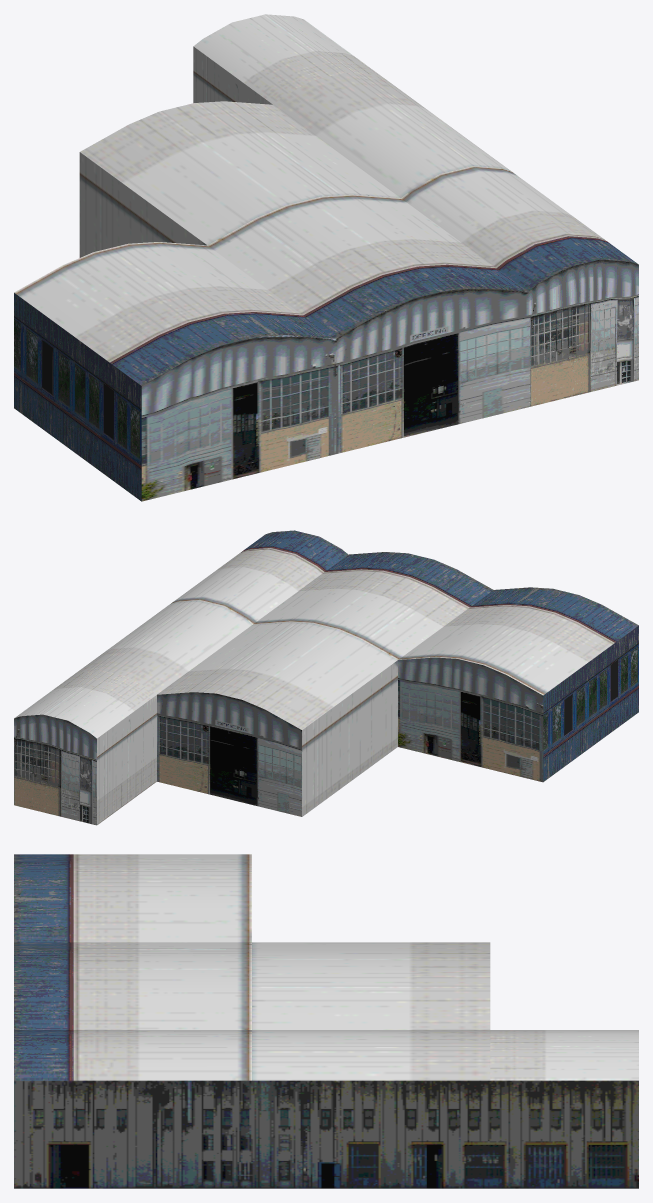
Rendered from Capannoni.fbx.
3 views of the same model, one above another, from view 1: azimuth 30°, elevation 25°; view 2: azimuth 150°, elevation 25°; view 3: azimuth 270°, elevation 25° (orthographic). The views are drawn at different scales.
Visible parts, largest first — view 1: Cube.023; view 2: Cube.023; view 3: Cube.023.
Boxes of the visible parts, left/top/right/bottom form: Cube.023: left=14, top=14, right=638, bottom=501; Cube.023: left=14, top=530, right=638, bottom=825; Cube.023: left=14, top=854, right=638, bottom=1188.
Size of the model in its own units: 1800 by 473 by 2100.
